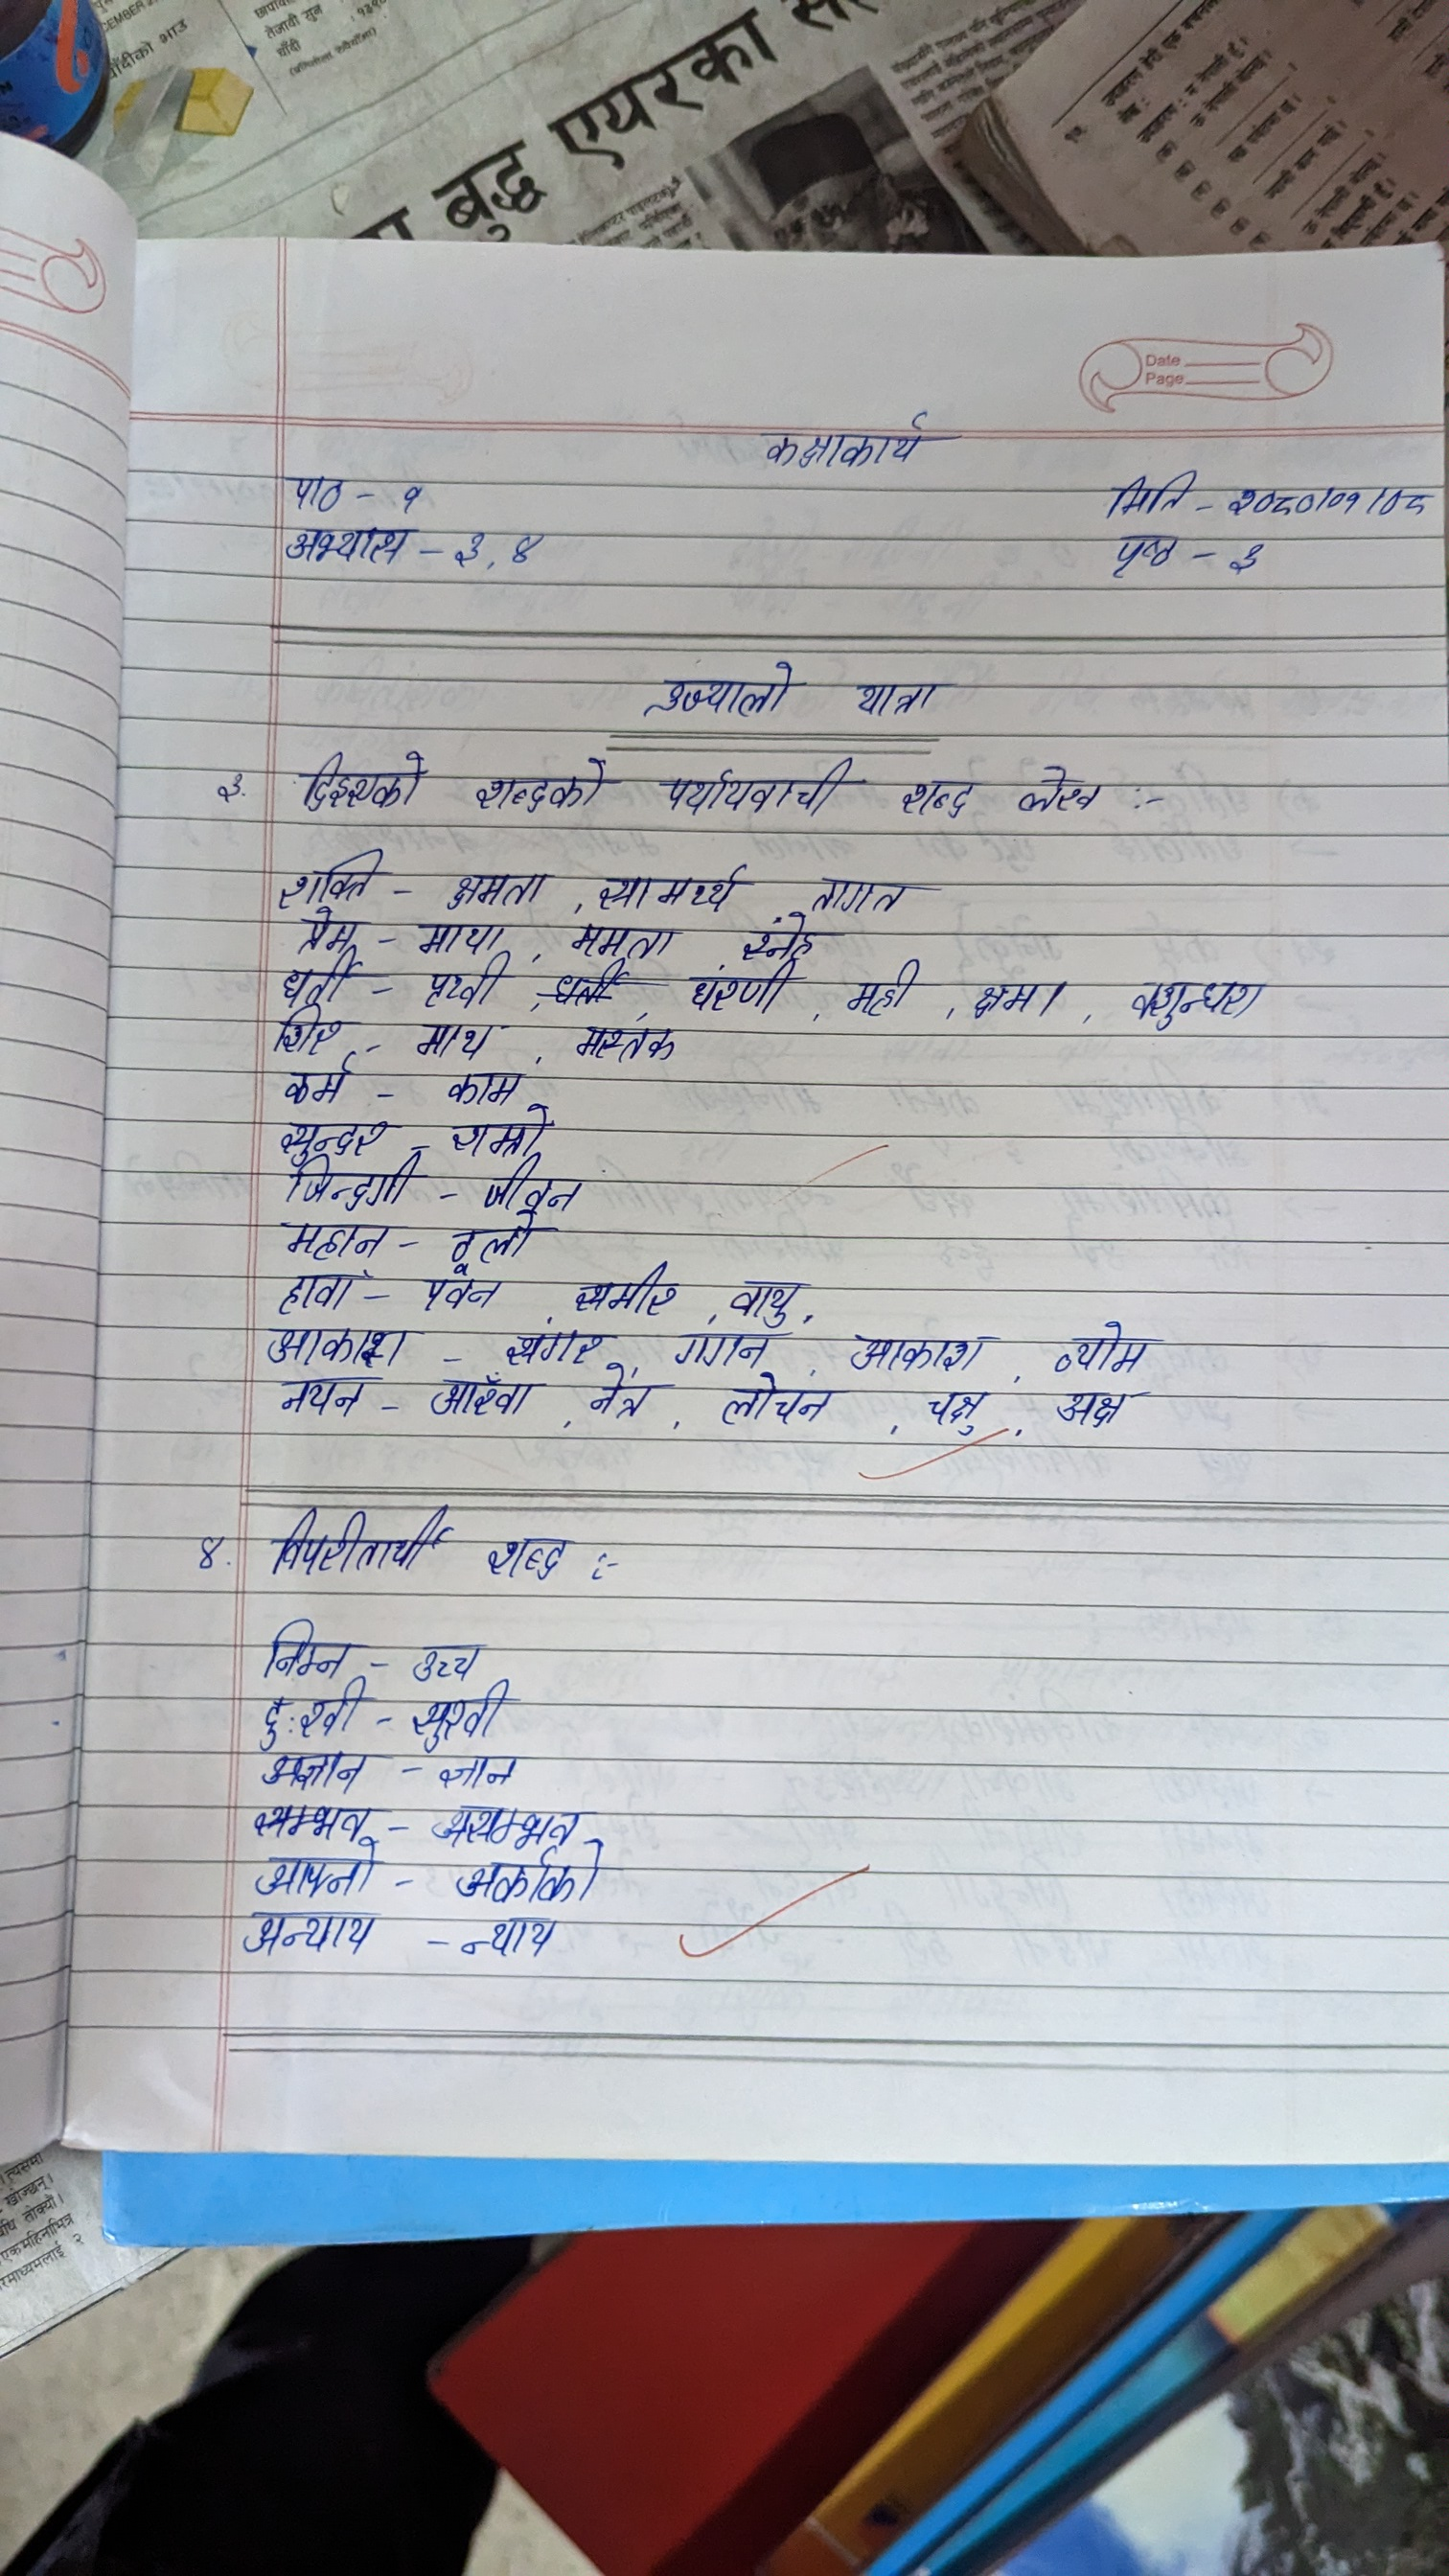text: (740, 398, 959, 481), (265, 1504, 451, 1580), (653, 761, 856, 823), (444, 1847, 617, 1904), (577, 862, 761, 915), (278, 524, 428, 587), (646, 660, 796, 724), (464, 755, 612, 819), (292, 752, 442, 814), (251, 1677, 379, 1746), (1129, 977, 1272, 1037), (713, 1371, 844, 1433), (1049, 1313, 1180, 1375), (435, 1212, 563, 1274), (851, 1325, 996, 1378), (554, 1010, 683, 1069), (251, 1844, 382, 1900), (409, 1683, 515, 1752), (237, 1911, 382, 1960), (285, 1159, 433, 1207), (278, 844, 395, 904), (251, 1750, 382, 1803), (428, 1801, 579, 1847), (573, 1260, 681, 1320), (485, 1525, 582, 1589), (432, 867, 566, 913), (260, 1615, 359, 1677), (467, 1161, 589, 1210), (269, 1219, 402, 1263), (396, 1624, 499, 1681), (458, 1911, 563, 1966), (409, 961, 533, 1007), (971, 964, 1063, 1024), (561, 918, 685, 962), (713, 918, 837, 962), (846, 961, 938, 1019), (1102, 469, 1201, 522), (847, 671, 947, 724), (439, 1109, 552, 1155), (688, 968, 793, 1017), (883, 775, 987, 823), (1008, 766, 1113, 814), (814, 867, 918, 915), (911, 1387, 1005, 1440), (272, 1373, 375, 1421), (432, 1373, 534, 1421), (1049, 1387, 1145, 1438), (271, 1060, 364, 1111), (251, 1805, 372, 1844), (718, 1279, 816, 1327), (662, 1332, 780, 1371), (582, 1366, 658, 1426), (269, 1272, 366, 1318), (416, 1277, 513, 1323), (276, 1120, 389, 1159), (499, 1329, 617, 1366), (412, 1014, 499, 1063), (292, 906, 372, 954), (278, 955, 357, 1003), (269, 1007, 349, 1054), (386, 471, 462, 520), (1108, 533, 1184, 582), (432, 1067, 527, 1106), (280, 465, 354, 515), (421, 916, 508, 959), (430, 1755, 525, 1789), (212, 755, 255, 821), (453, 522, 495, 575), (504, 522, 547, 575), (1228, 533, 1269, 586), (188, 1525, 228, 1573)
